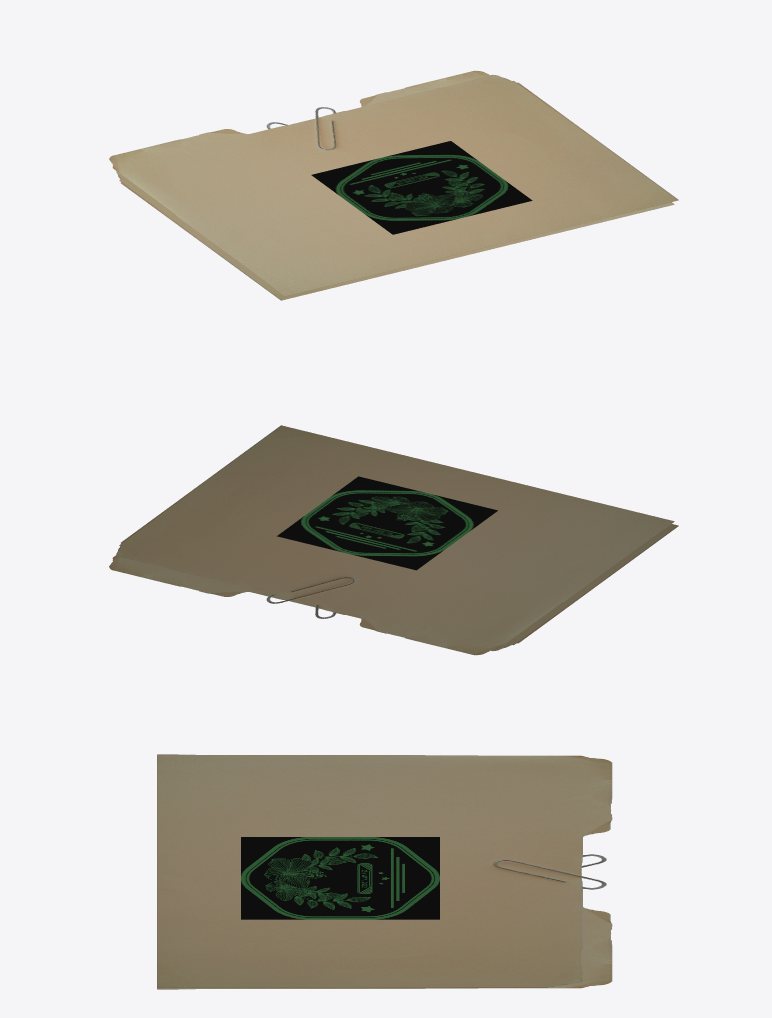
File: seal4.obj
3 renders of one model, top to bottom at view 1: azimuth 30°, elevation 25°; view 2: azimuth 150°, elevation 25°; view 3: azimuth 270°, elevation 25°, orthographic. The views are drawn at different scales.
Visible parts, largest first — view 1: Plane01, Seal4, Duplicate00; view 2: Plane01, Seal4, Duplicate00; view 3: Plane01, Seal4, Duplicate00.
Boxes of the visible parts, x1=… form: Plane01: x1=109, y1=74, x2=678, y2=296; Seal4: x1=311, y1=141, x2=532, y2=234; Duplicate00: x1=116, y1=70, x2=674, y2=300; Plane01: x1=116, y1=425, x2=674, y2=655; Seal4: x1=277, y1=476, x2=497, y2=570; Duplicate00: x1=109, y1=524, x2=678, y2=651; Plane01: x1=157, y1=754, x2=612, y2=987; Seal4: x1=241, y1=837, x2=439, y2=919; Duplicate00: x1=157, y1=854, x2=612, y2=989.
Bounding box in the file's own units: 5.05 × 0.0529 × 6.12.
